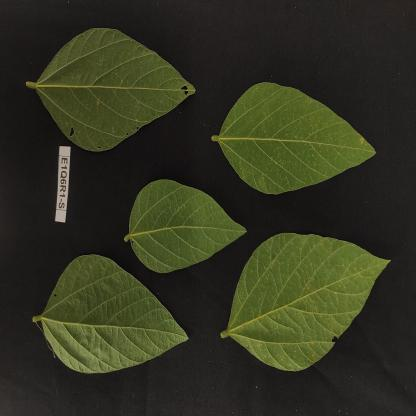label: (42, 143, 73, 229)
leaflets: (226, 215, 404, 391), (23, 254, 200, 396), (15, 22, 208, 151), (214, 62, 393, 198), (118, 190, 260, 282)
